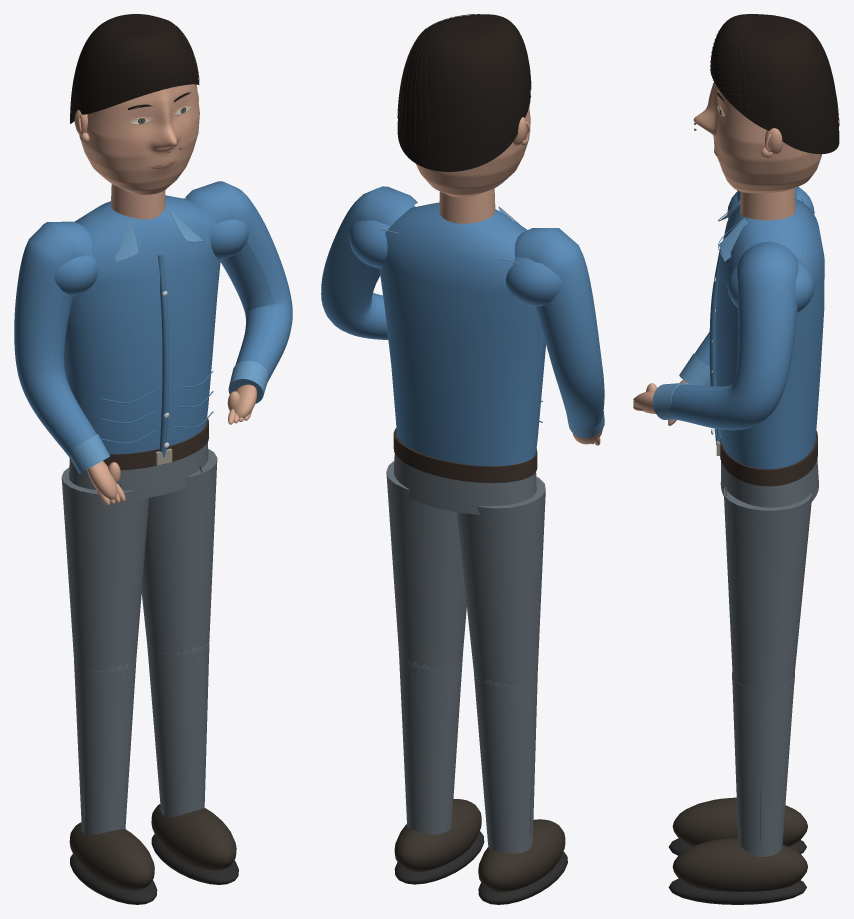
Rendered from teacher-reference.glb.
3 renders of one model, left to right at view 1: azimuth 30°, elevation 25°; view 2: azimuth 150°, elevation 25°; view 3: azimuth 270°, elevation 25°, orthographic. The views are drawn at different scales.
Visible parts, largest first — view 1: Teacher_Blue_Shirt, Upper_body, Reference_head, Left_arm, Right_arm, Neck; view 2: Teacher_Blue_Shirt, Upper_body, Reference_head, Left_arm, Right_arm, Neck; view 3: Teacher_Blue_Shirt, Reference_head, Upper_body, Right_arm, Neck, Left_arm.
Part boxes in pixels (x1,y1,x2,y2): Teacher_Blue_Shirt: (61, 419, 238, 904); Upper_body: (64, 195, 220, 457); Reference_head: (70, 14, 199, 194); Left_arm: (14, 221, 125, 505); Right_arm: (185, 181, 292, 424); Neck: (111, 184, 165, 219); Teacher_Blue_Shirt: (386, 428, 567, 904); Upper_body: (379, 202, 545, 466); Reference_head: (397, 14, 531, 197); Left_arm: (506, 228, 604, 445); Right_arm: (321, 186, 417, 339); Neck: (439, 188, 495, 223); Teacher_Blue_Shirt: (668, 430, 818, 904); Reference_head: (693, 14, 839, 193); Upper_body: (709, 198, 824, 469); Right_arm: (633, 241, 814, 430); Neck: (740, 188, 795, 220); Left_arm: (668, 186, 814, 425).
Size of the model in its own units: 0.6101 by 1.84 by 0.4027.
Materials: 24 (1 with a texture image).
